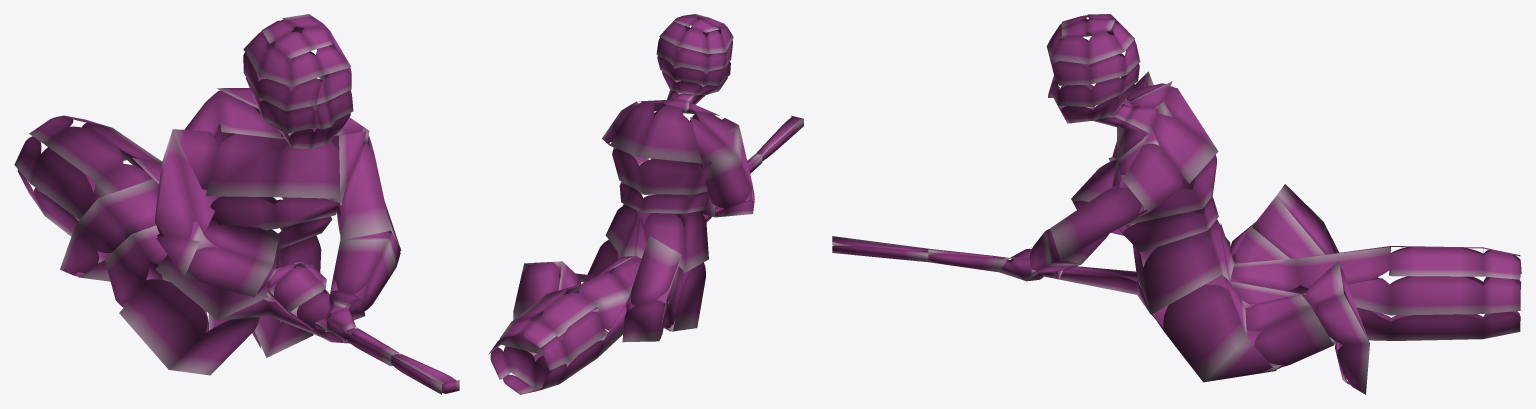
3 renders of one model, left to right at view 1: azimuth 30°, elevation 25°; view 2: azimuth 150°, elevation 25°; view 3: azimuth 270°, elevation 25°, orthographic. The views are drawn at different scales.
Visible parts, largest first — view 1: T1L9M002_27; view 2: T1L9M002_27; view 3: T1L9M002_27.
Part boxes in pixels (x1,y1,x2,y2): T1L9M002_27: (14,14,459,394); T1L9M002_27: (488,14,803,394); T1L9M002_27: (832,14,1521,394).
Size of the model in its own units: 0.5594 by 0.9683 by 1.77.
